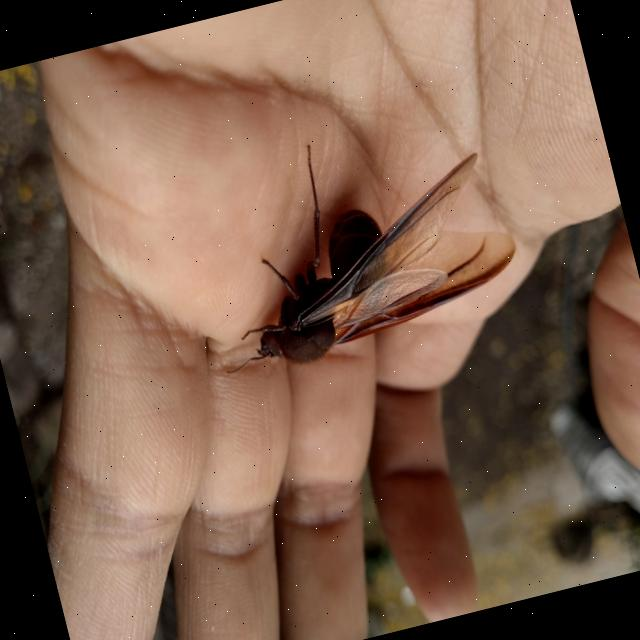Alive-Female-Alate: (177, 102, 531, 384)
